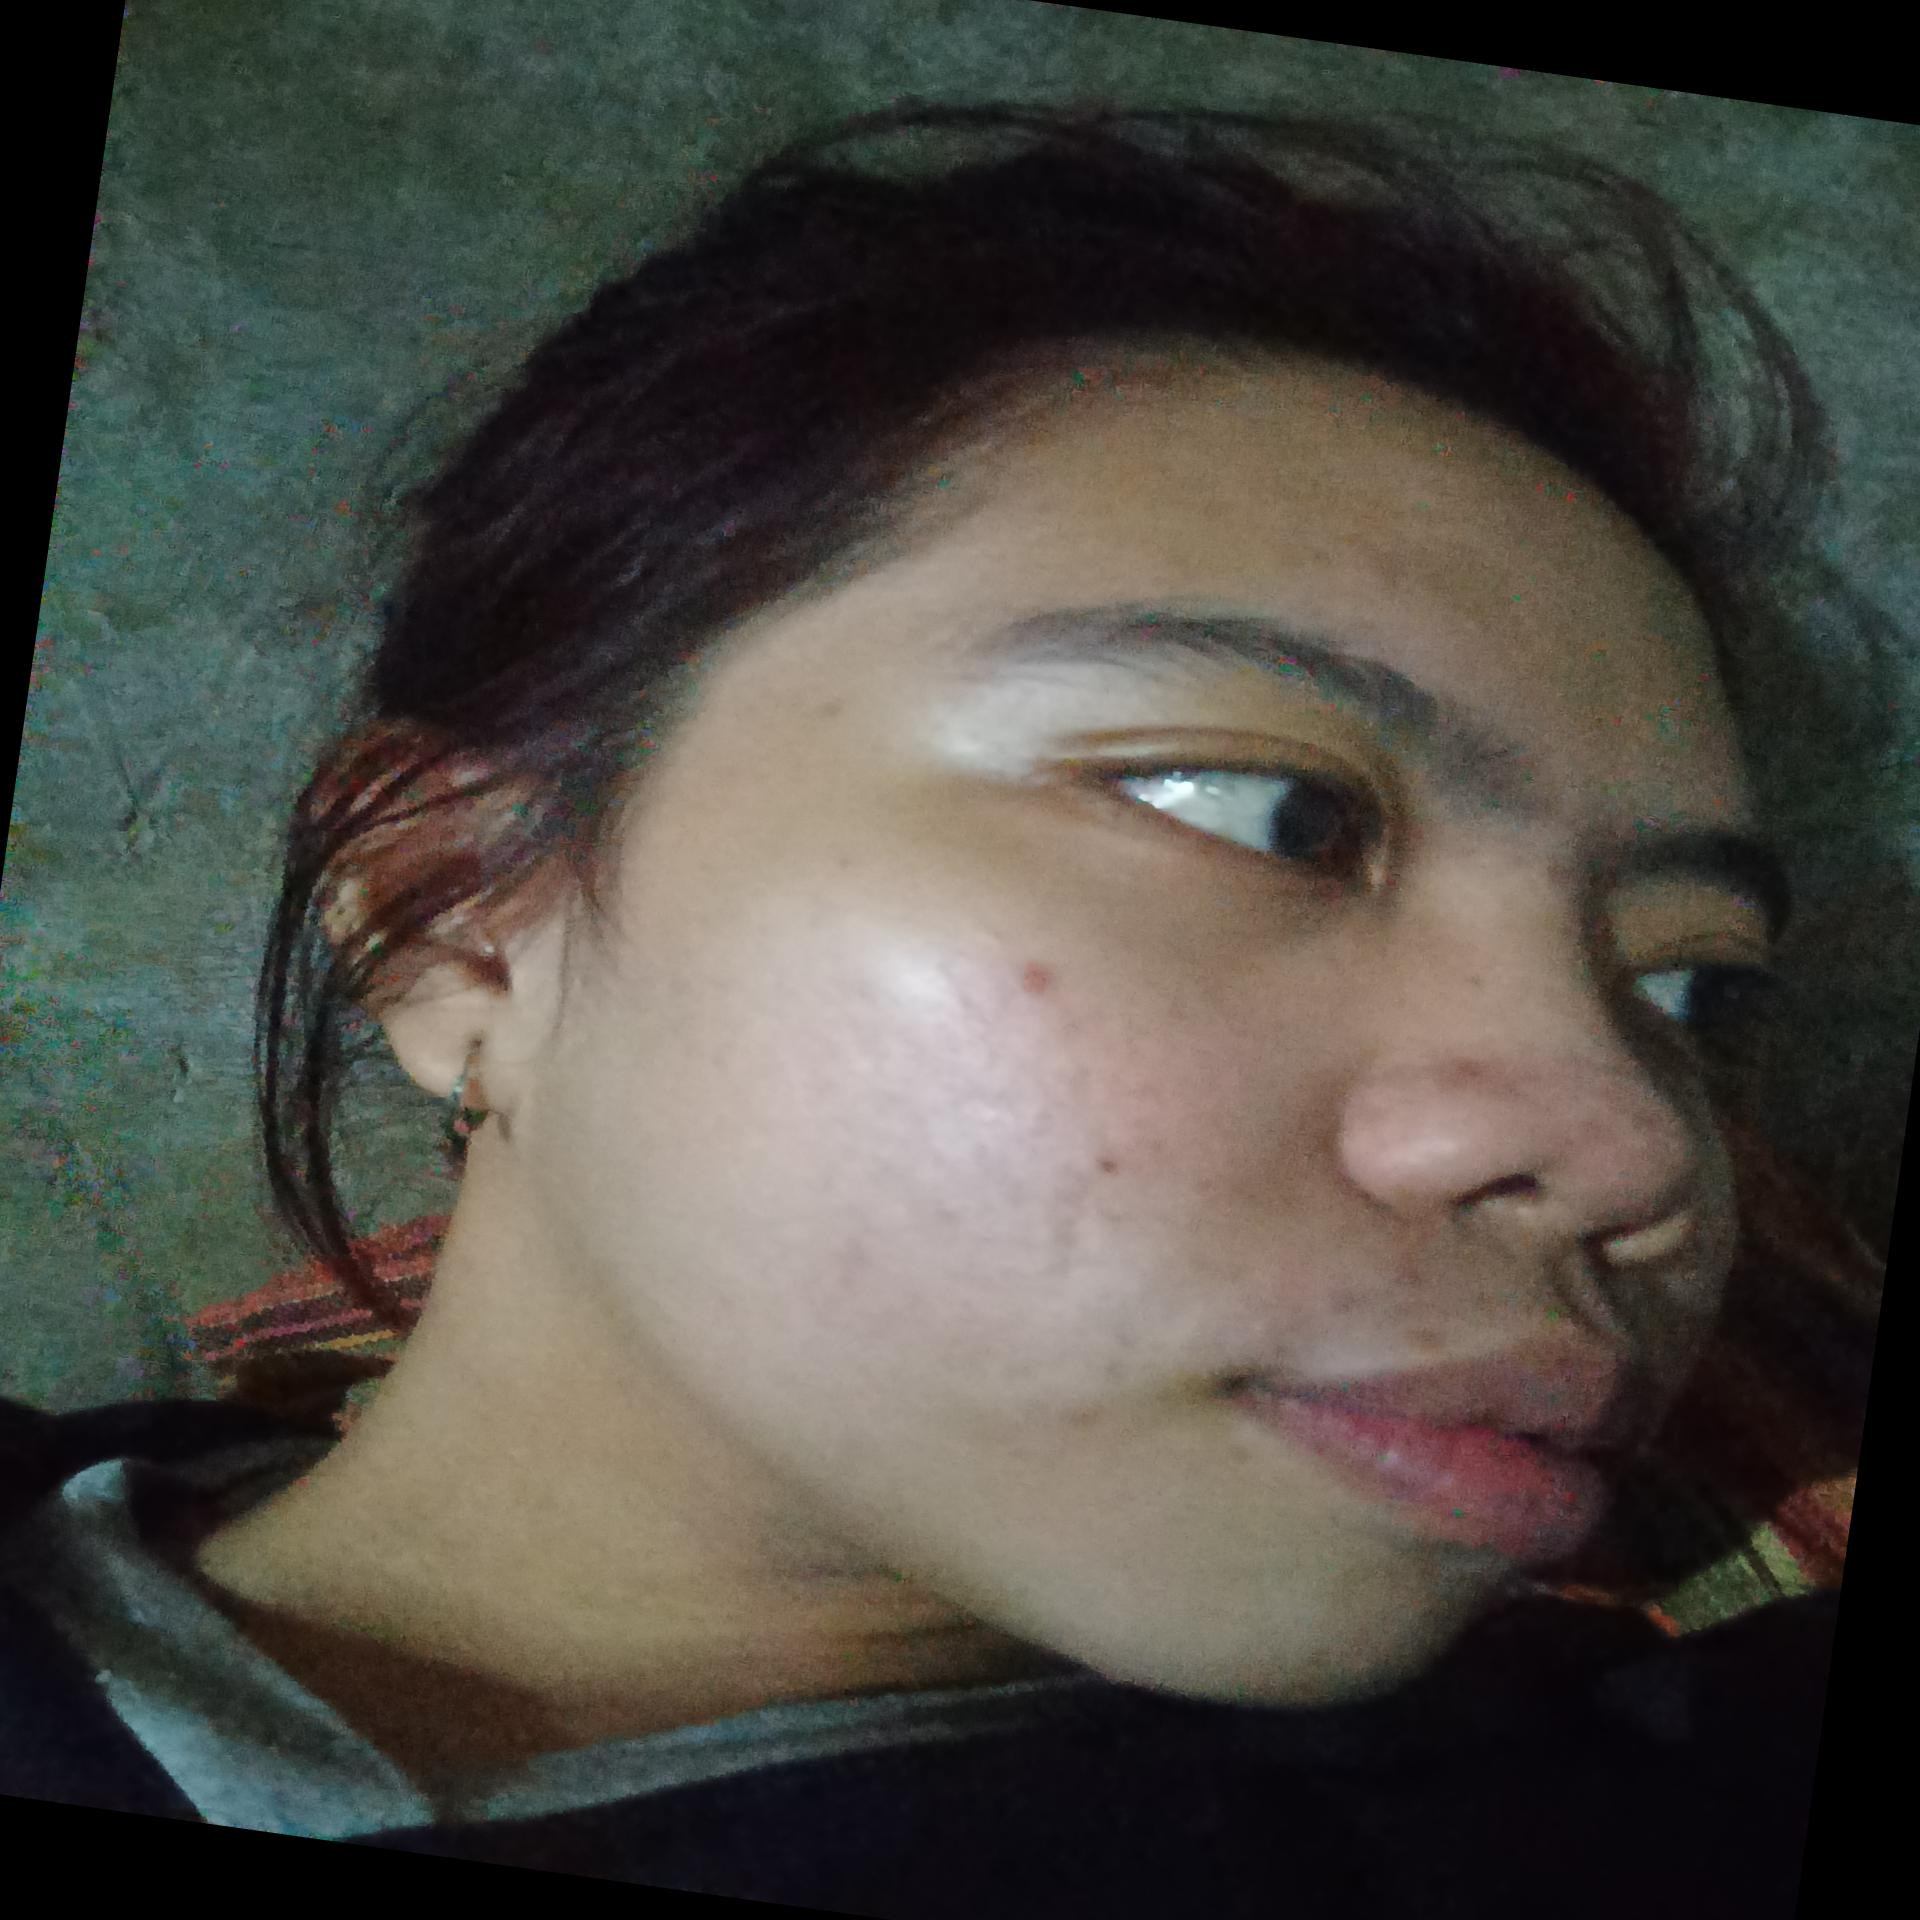Acne: (1429, 1046, 1533, 1106), (1011, 955, 1058, 1009), (1060, 1396, 1115, 1438), (1619, 1102, 1667, 1145), (1319, 1280, 1370, 1319), (1401, 1320, 1451, 1354), (809, 691, 855, 726), (1537, 858, 1579, 895), (1405, 1554, 1449, 1588), (1391, 1261, 1429, 1296), (1217, 1438, 1261, 1468)
Blackhead: (821, 985, 1210, 1303)
